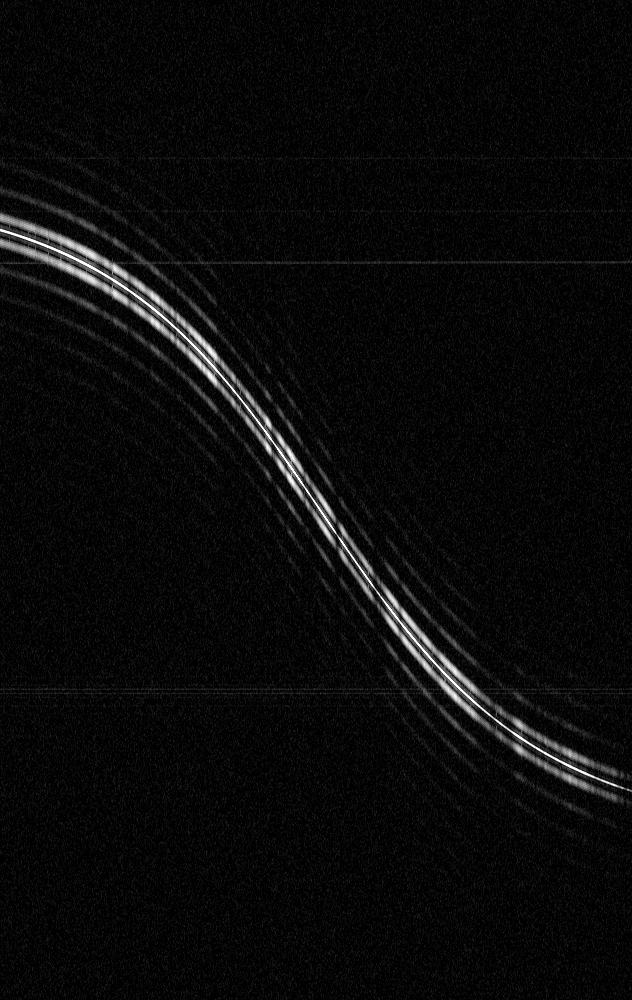signal: (0, 0, 631, 999)
